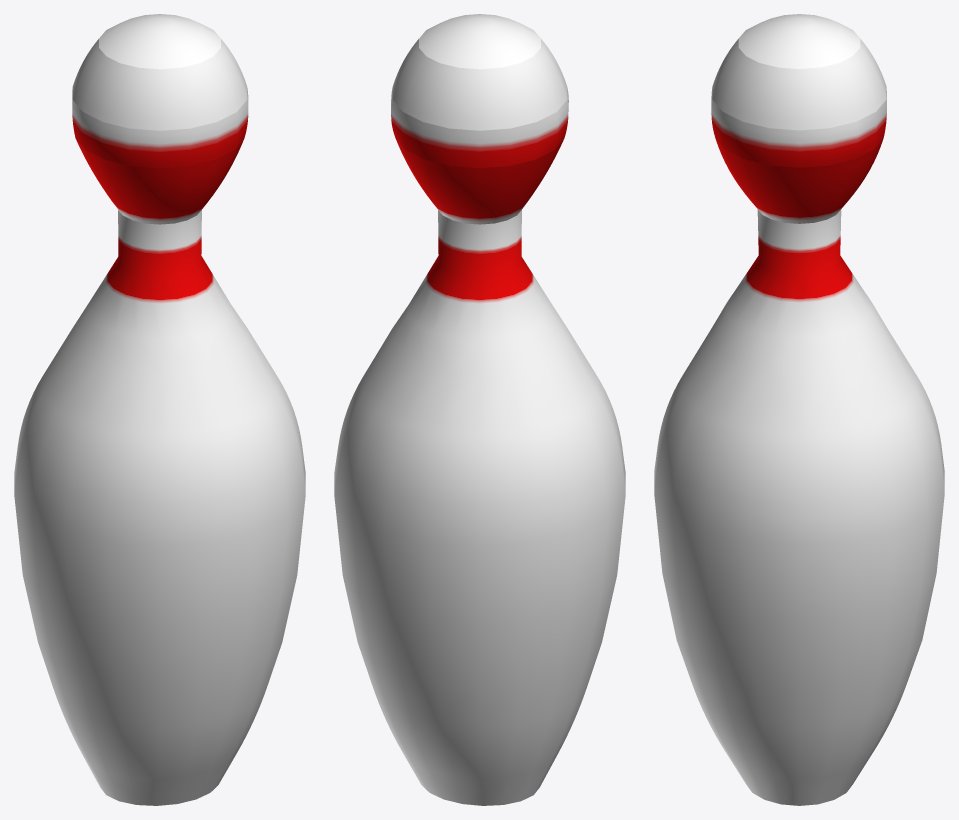
The model's file is BowlingPin.fbx.
3 renders of one model, left to right at view 1: azimuth 30°, elevation 25°; view 2: azimuth 150°, elevation 25°; view 3: azimuth 270°, elevation 25°, orthographic.
Visible parts, largest first — view 1: Cylinder001; view 2: Cylinder001; view 3: Cylinder001.
Part boxes in pixels (x1=…): Cylinder001: x1=14, y1=14, x2=305, y2=805; Cylinder001: x1=334, y1=14, x2=625, y2=805; Cylinder001: x1=654, y1=14, x2=944, y2=805.
Size of the model in its own units: 0.6301 by 1.78 by 0.6205.
Materials: 1 (1 with a texture image).
